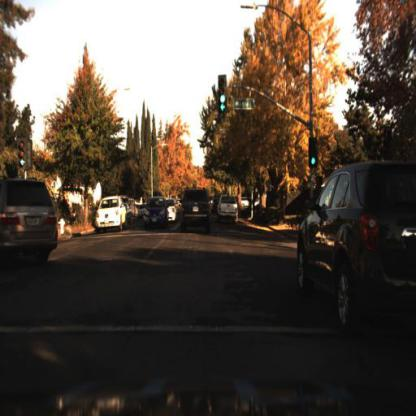car: (296, 162, 414, 339), (1, 177, 58, 269), (179, 187, 211, 231), (178, 185, 213, 225), (94, 195, 128, 235), (141, 195, 169, 229), (217, 195, 241, 225), (166, 193, 179, 231), (166, 199, 178, 225)
trafficLight: (218, 85, 229, 119)
trafficLight-Green: (308, 140, 319, 170)
trafficLight-GreenLeft: (16, 140, 28, 174)
